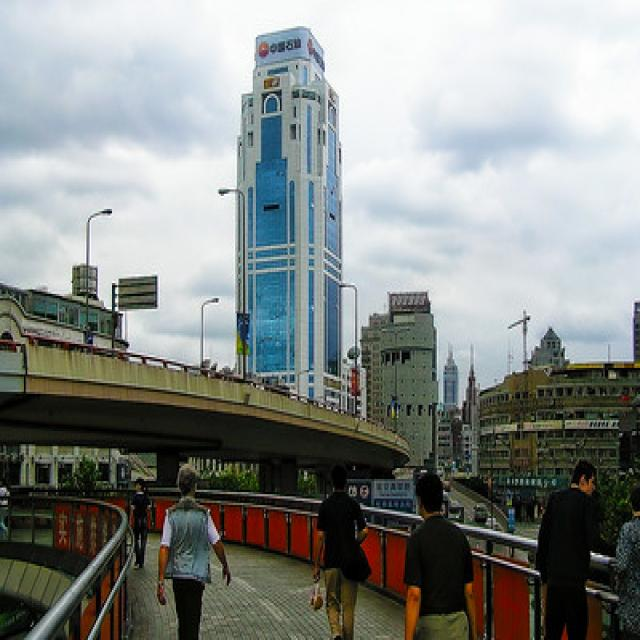building: (229, 18, 358, 410)
